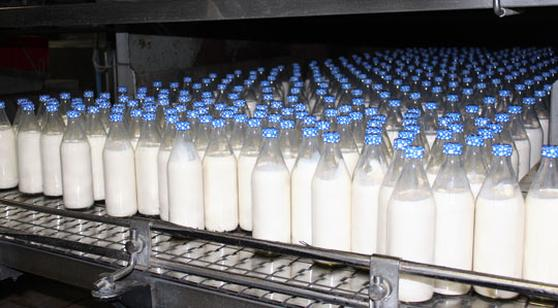milk: (251, 133, 296, 251)
